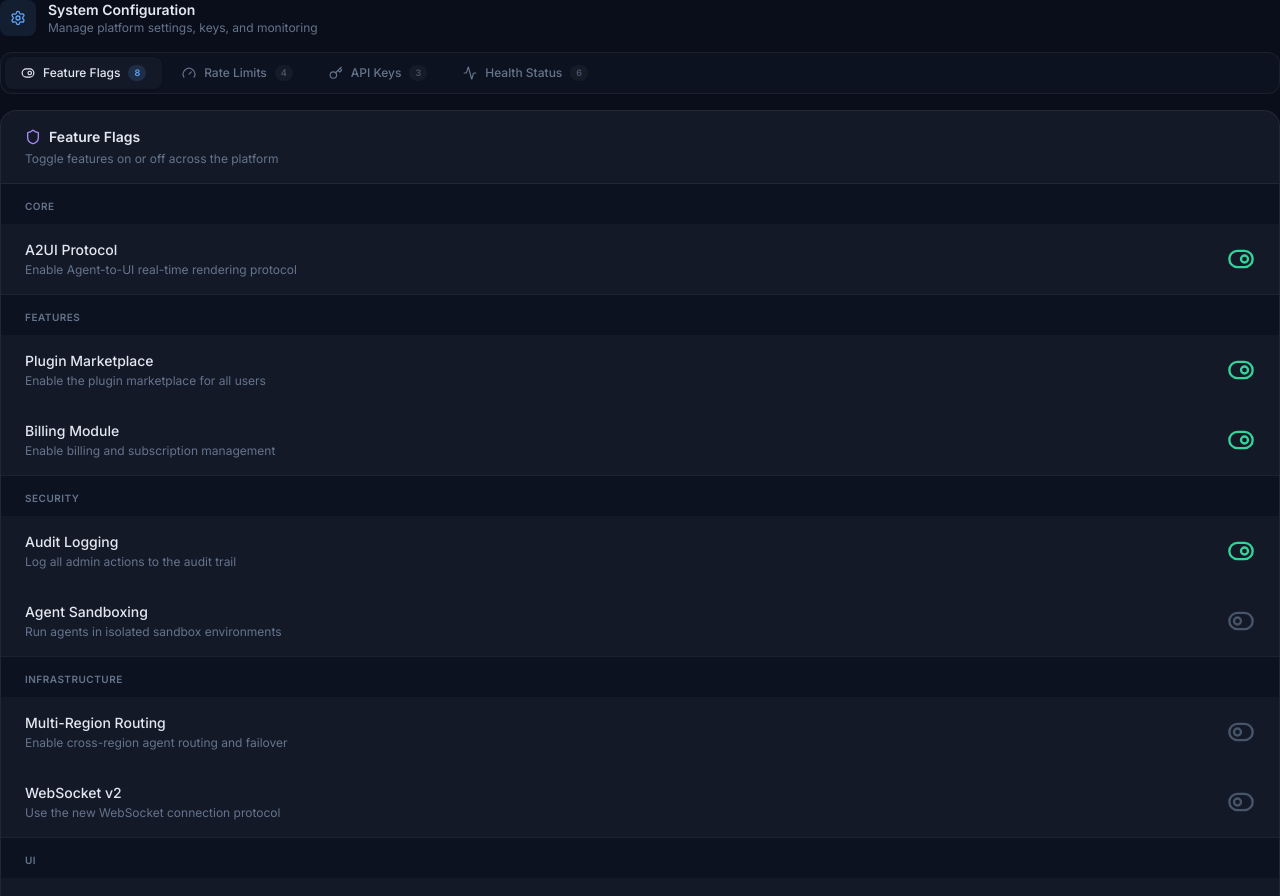
it: SystemConfig › handles reveal/hide toggle for API keys
Click the button "API Keys 3" at (378, 73), box [313,57,443,89]
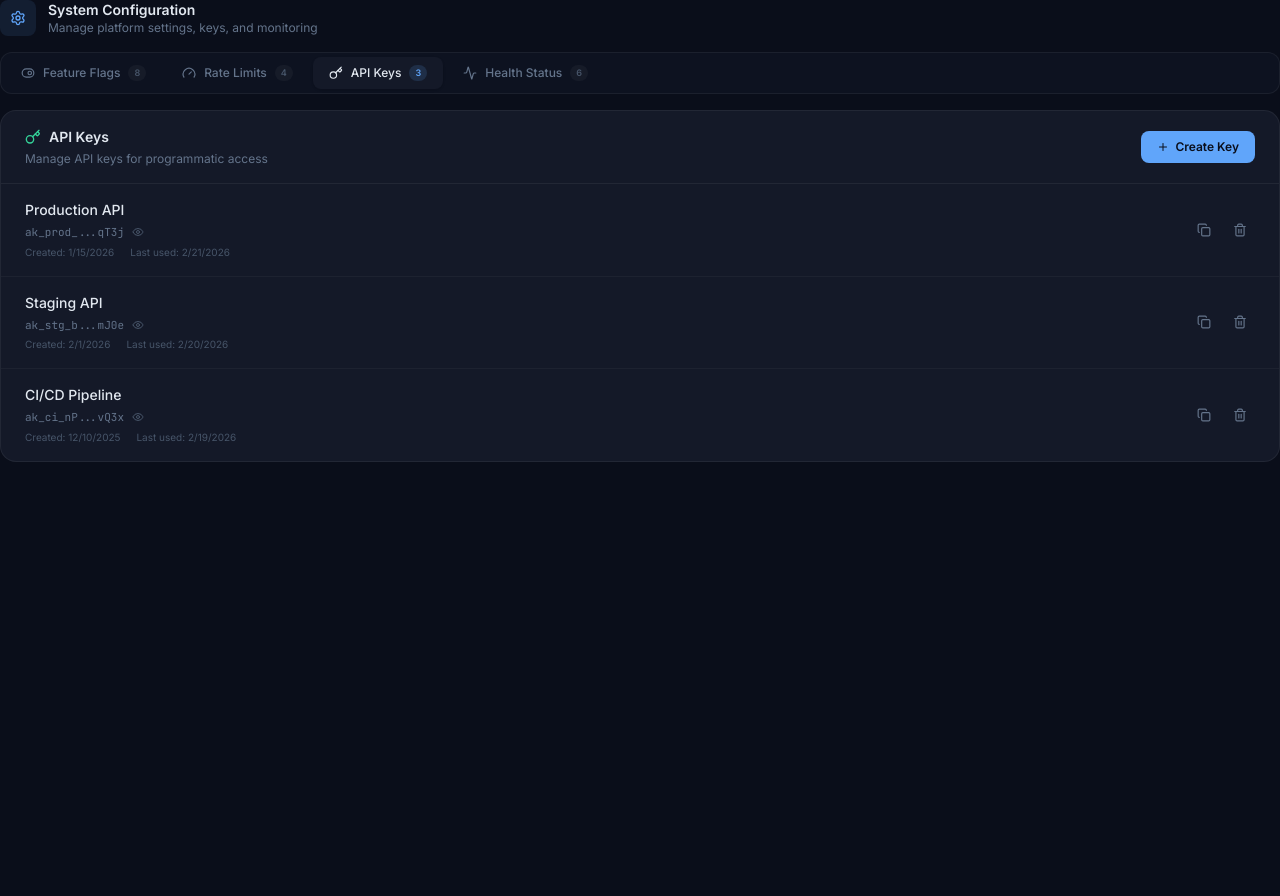
Expected: the number of buttons titled "Reveal" is 3
Note: Click to reveal the first key
Click the button titled "Reveal" next to "ak_prod_...qT3j" at (138, 232), box [132,226,144,238]
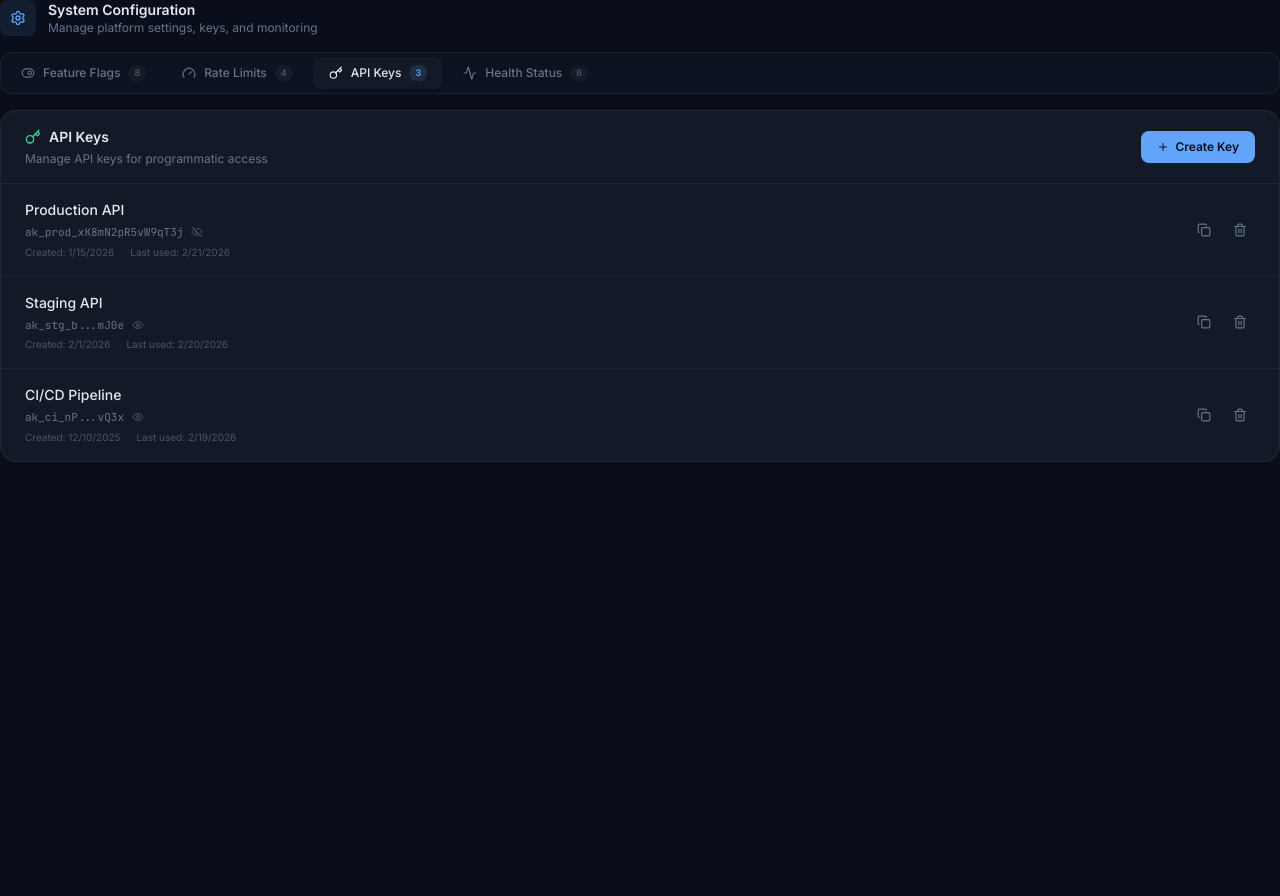
Expected: the text "ak_prod_xK8mN2pR5vW9qT3j" is shown, [25,224,183,240]
Expected: the button titled "Hide" is shown
Note: Click to hide again
Click the button titled "Hide" at (197, 232), box [191,226,203,238]
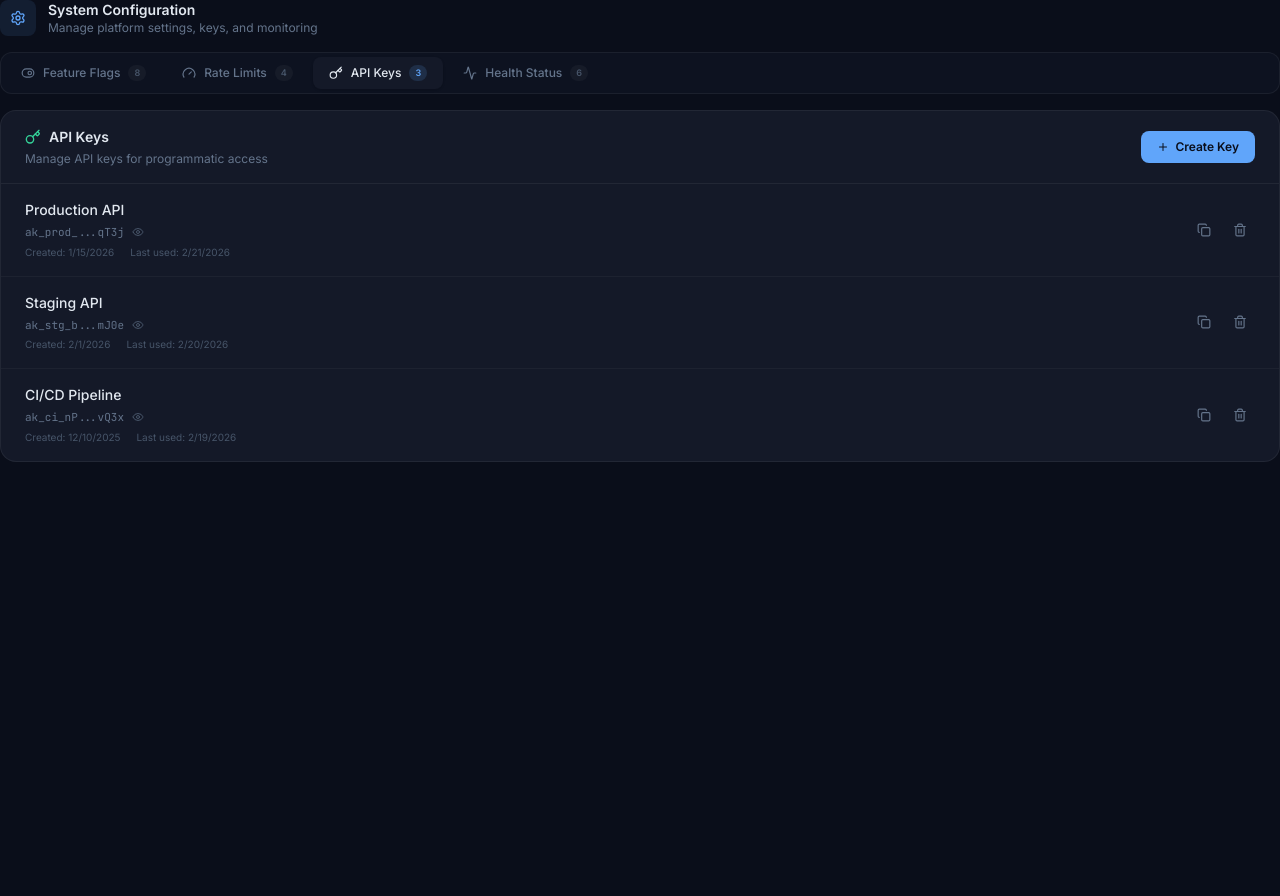
Expected: the text "ak_prod_xK8mN2pR5vW9qT3j" is gone
